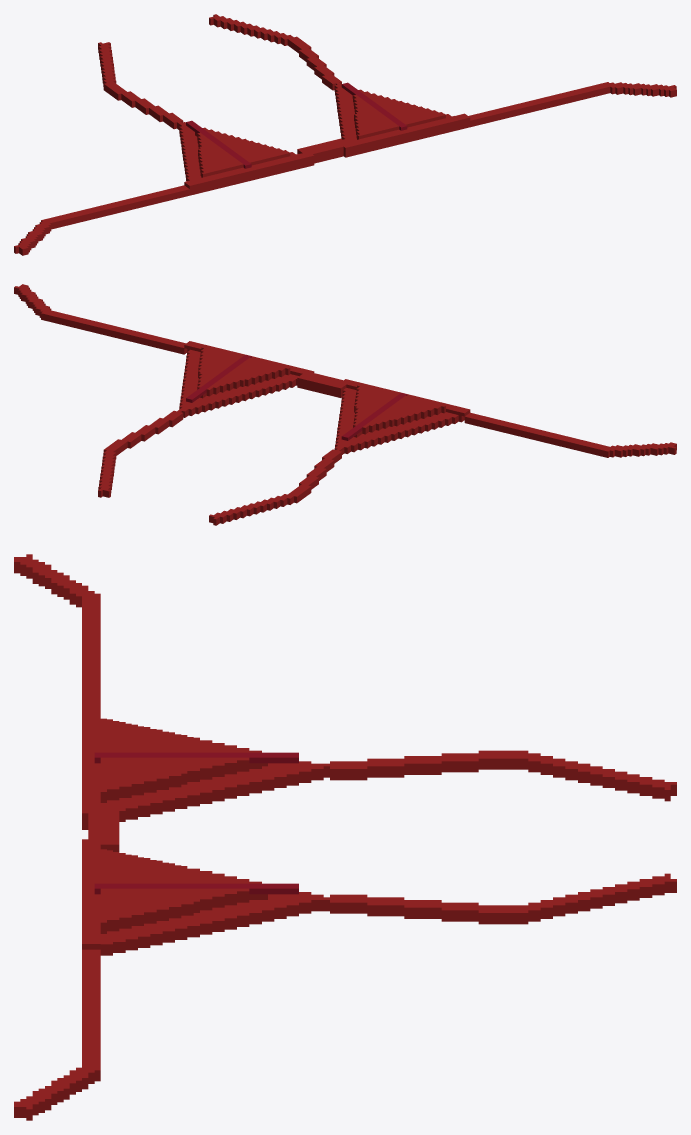
Rendered from bikini_top_short.glb.
3 renders of one model, top to bottom at view 1: azimuth 30°, elevation 25°; view 2: azimuth 150°, elevation 25°; view 3: azimuth 270°, elevation 25°, orthographic. The views are drawn at different scales.
Parts seen in each view (by area): view 1: bikini_top_short:compound; view 2: bikini_top_short:compound; view 3: bikini_top_short:compound.
Part boxes in pixels (x1,y1,x2,y2): bikini_top_short:compound: (14,14,676,255); bikini_top_short:compound: (14,284,676,525); bikini_top_short:compound: (14,554,676,1120).
Bounding box in the file's own units: 0.424 × 0.008 × 0.214.
